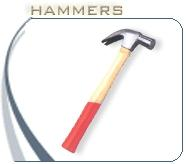hammer: (60, 26, 156, 153)
